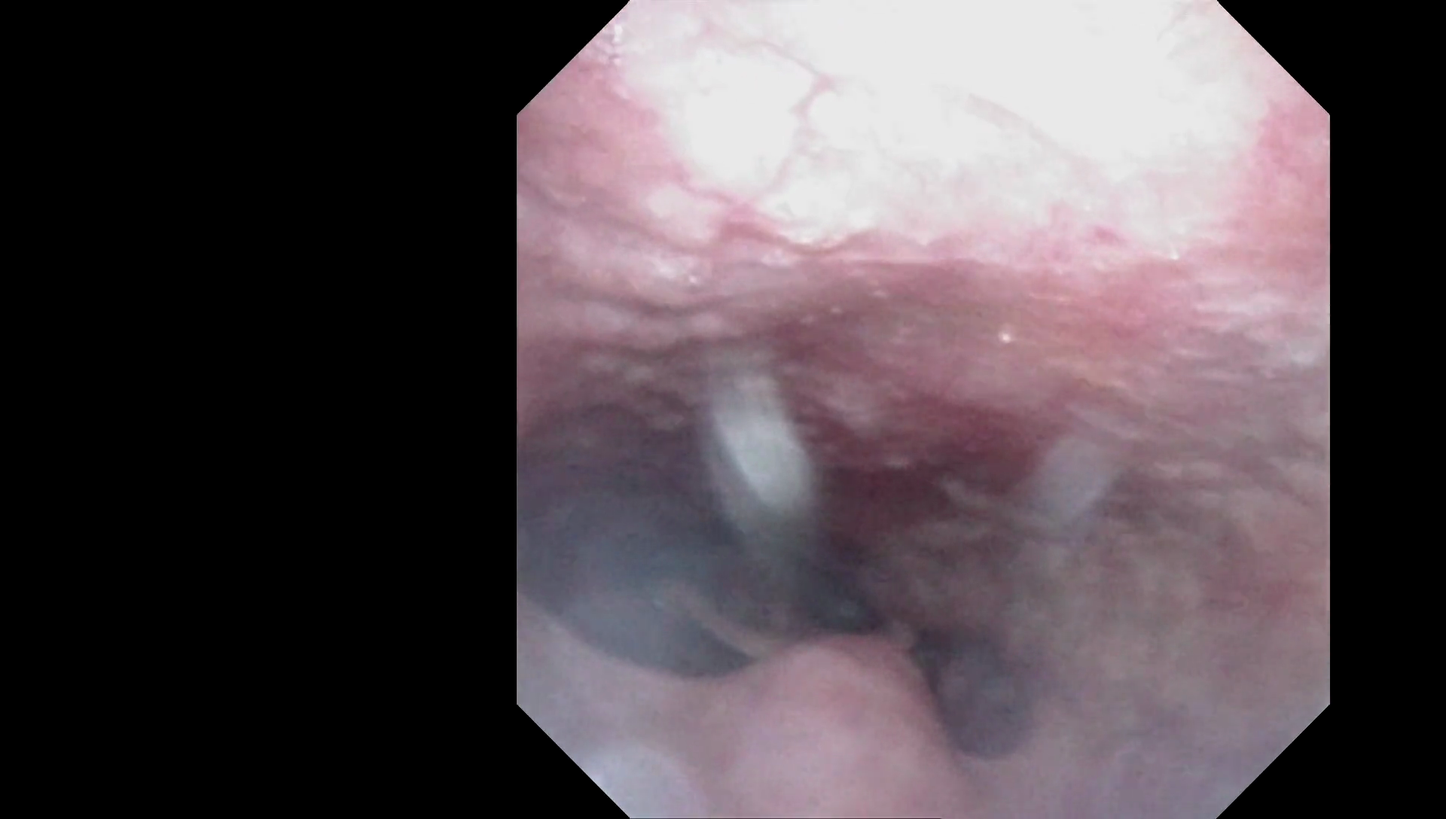close_wall: (641, 10, 1224, 316)
next: (760, 540, 907, 698)
